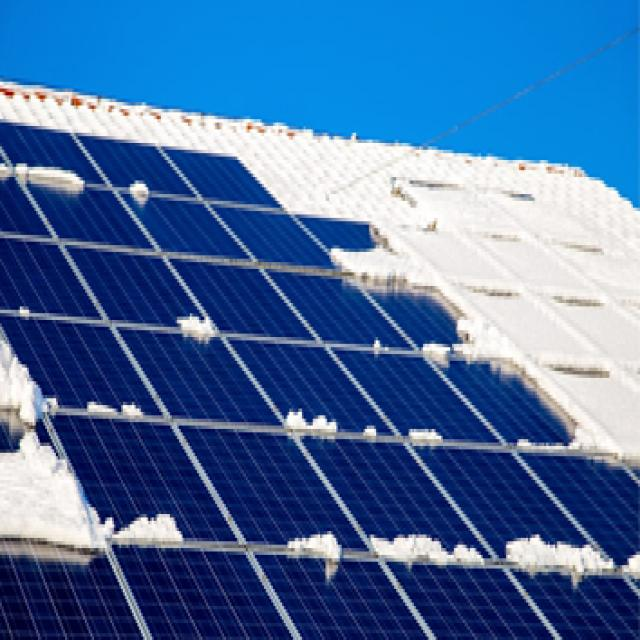snow covered: (0, 133, 636, 568)
